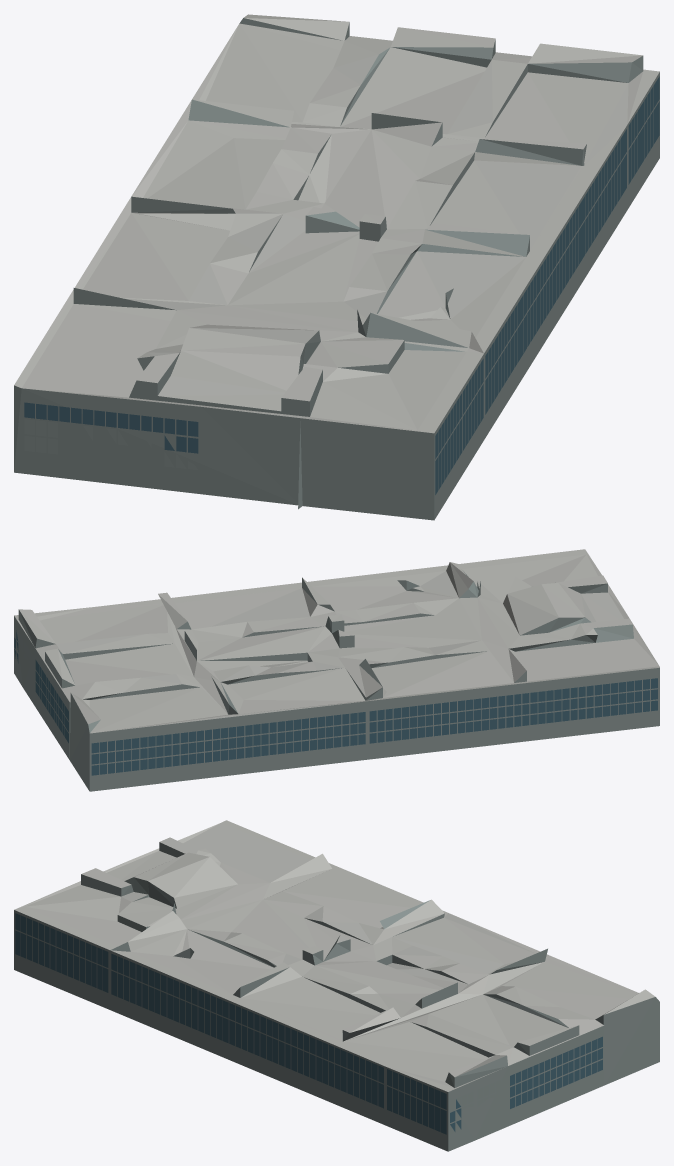
The model's file is jacob-bontiusplaats-9.lod2.glb.
3 views of the same model, one above another, from view 1: azimuth 30°, elevation 25°; view 2: azimuth 150°, elevation 25°; view 3: azimuth 270°, elevation 25° (orthographic). The views are drawn at different scales.
Visible parts, largest first — view 1: lod2; view 2: lod2; view 3: lod2.
Boxes of the visible parts, box(x1,y1,x2,y2) form: lod2: box(14, 14, 659, 520); lod2: box(14, 549, 659, 791); lod2: box(14, 820, 659, 1151).
Bounding box in the file's own units: 187 × 25.87 × 188.
